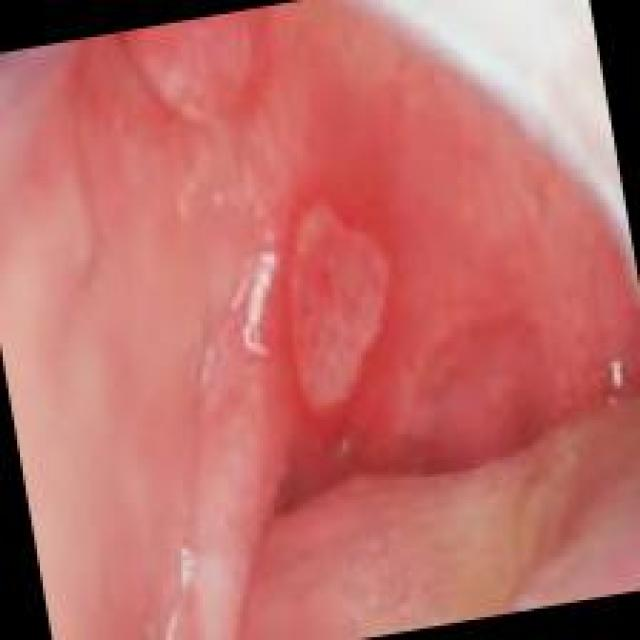processing_area: (0, 0, 637, 637)
ulcer-detection: (255, 151, 434, 448)
